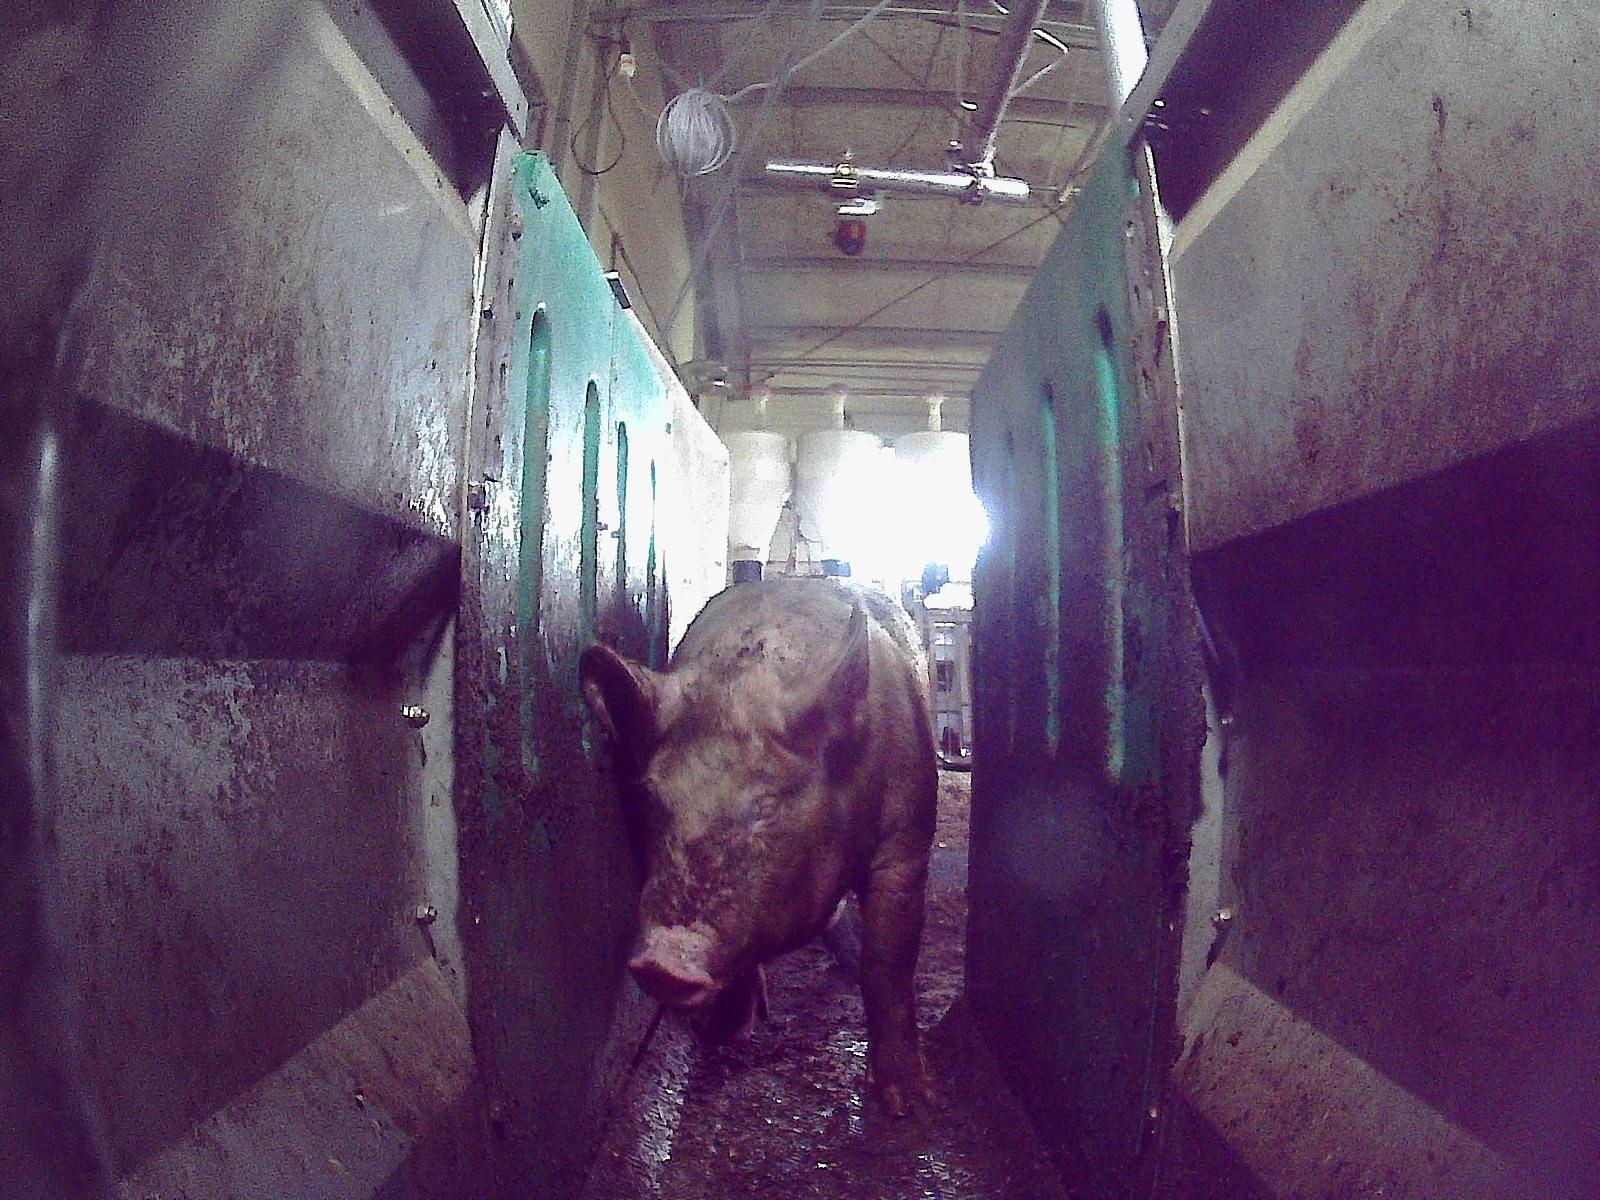Face: (626, 671, 836, 1007)
